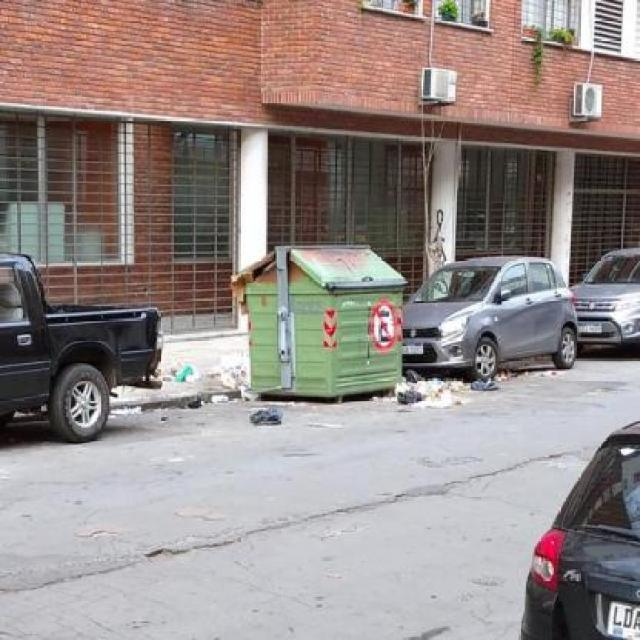garbage: (383, 363, 519, 402), (169, 348, 250, 411), (226, 397, 293, 428)
